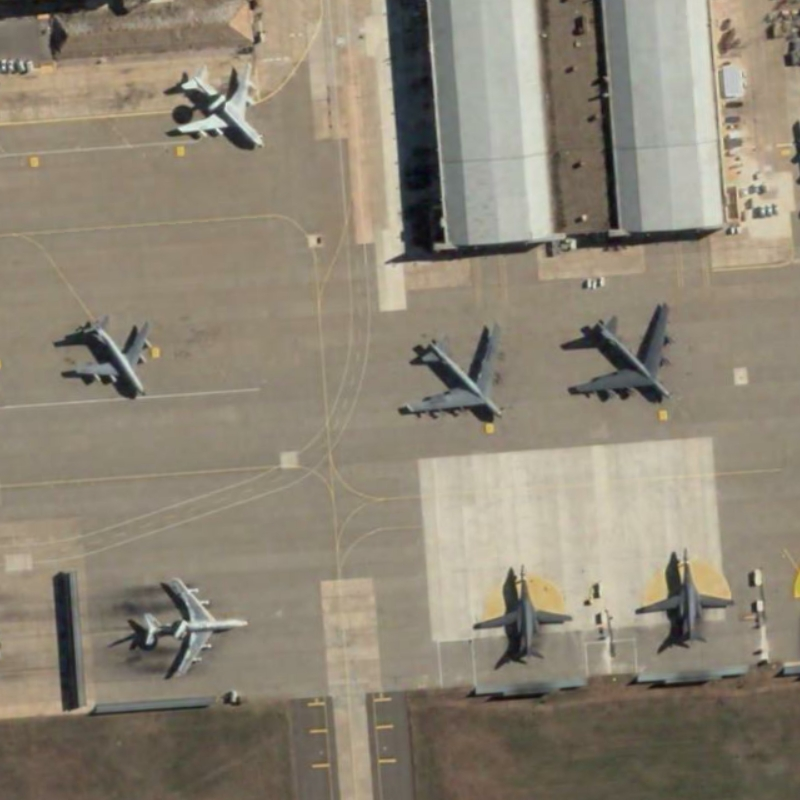A10: (461, 557, 579, 667), (629, 549, 744, 650)
A14: (65, 310, 168, 403)
A7: (135, 568, 254, 683), (165, 53, 269, 152)
A8: (562, 300, 688, 411), (397, 323, 515, 426)
